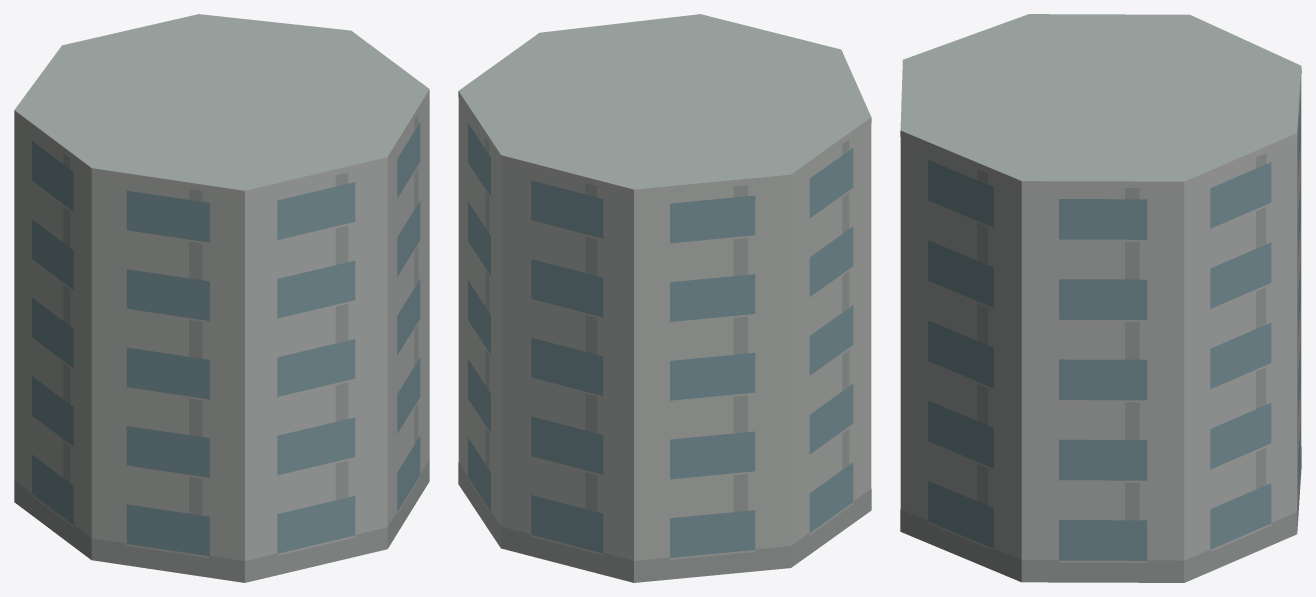
Rendered from survey-upis-32782700.glb.
3 renders of one model, left to right at view 1: azimuth 30°, elevation 25°; view 2: azimuth 150°, elevation 25°; view 3: azimuth 270°, elevation 25°, orthographic. The views are drawn at different scales.
Parts seen in each view (by area): view 1: survey-upis-32782700.tmp; view 2: survey-upis-32782700.tmp; view 3: survey-upis-32782700.tmp.
Part boxes in pixels (bbox=[...]): survey-upis-32782700.tmp: bbox=[14, 14, 429, 582]; survey-upis-32782700.tmp: bbox=[458, 14, 871, 582]; survey-upis-32782700.tmp: bbox=[900, 14, 1301, 582].
Bounding box in the file's own units: 13.67 × 15.25 × 13.82.
